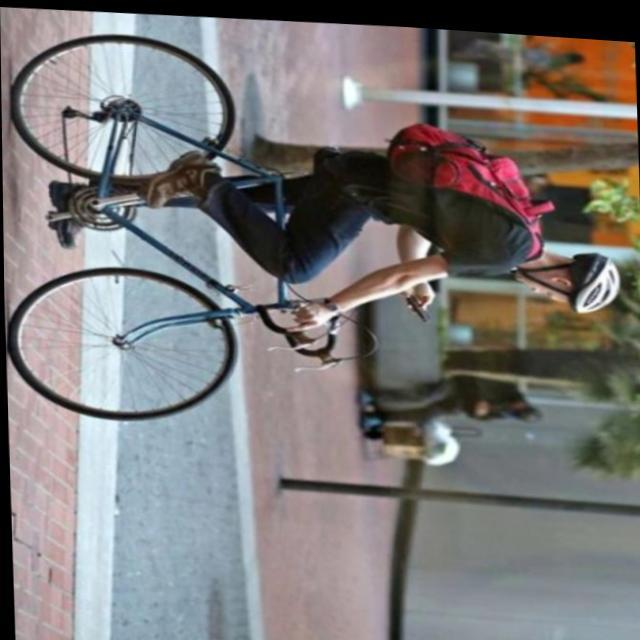use_mobile: (396, 232, 435, 320)
with_helmet: (524, 254, 620, 314)
